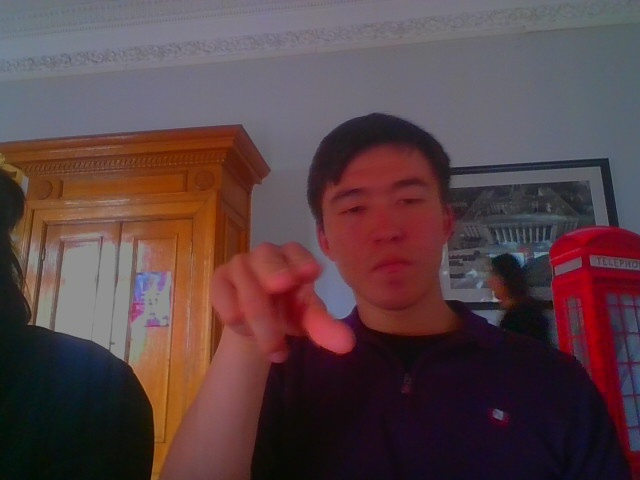no: (195, 226, 374, 387)
